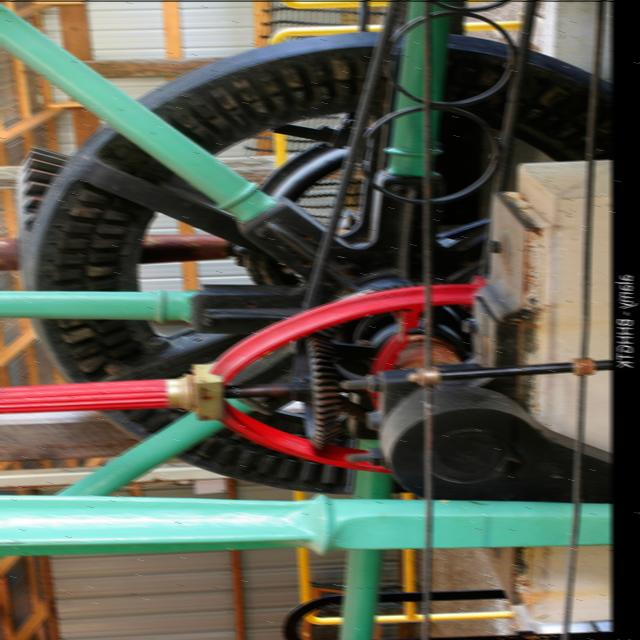Bolt: (462, 318, 478, 332), (487, 239, 502, 253)
Gear: (24, 33, 615, 493), (14, 143, 77, 255), (294, 331, 346, 448)
